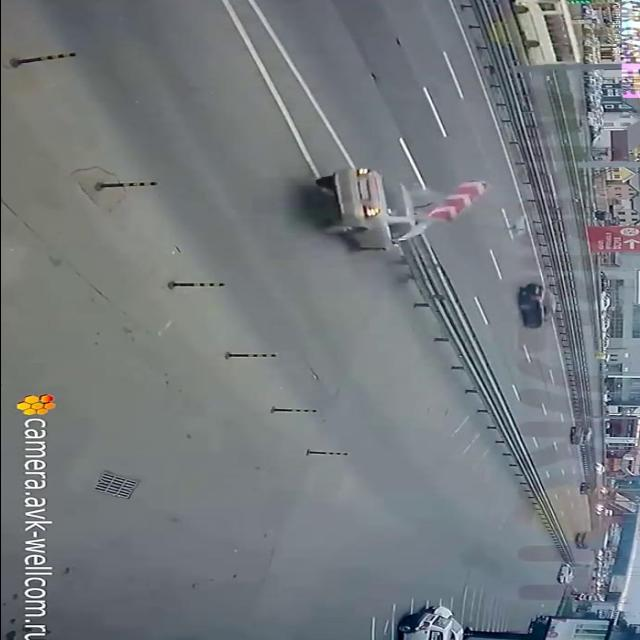accident: (295, 155, 497, 265)
